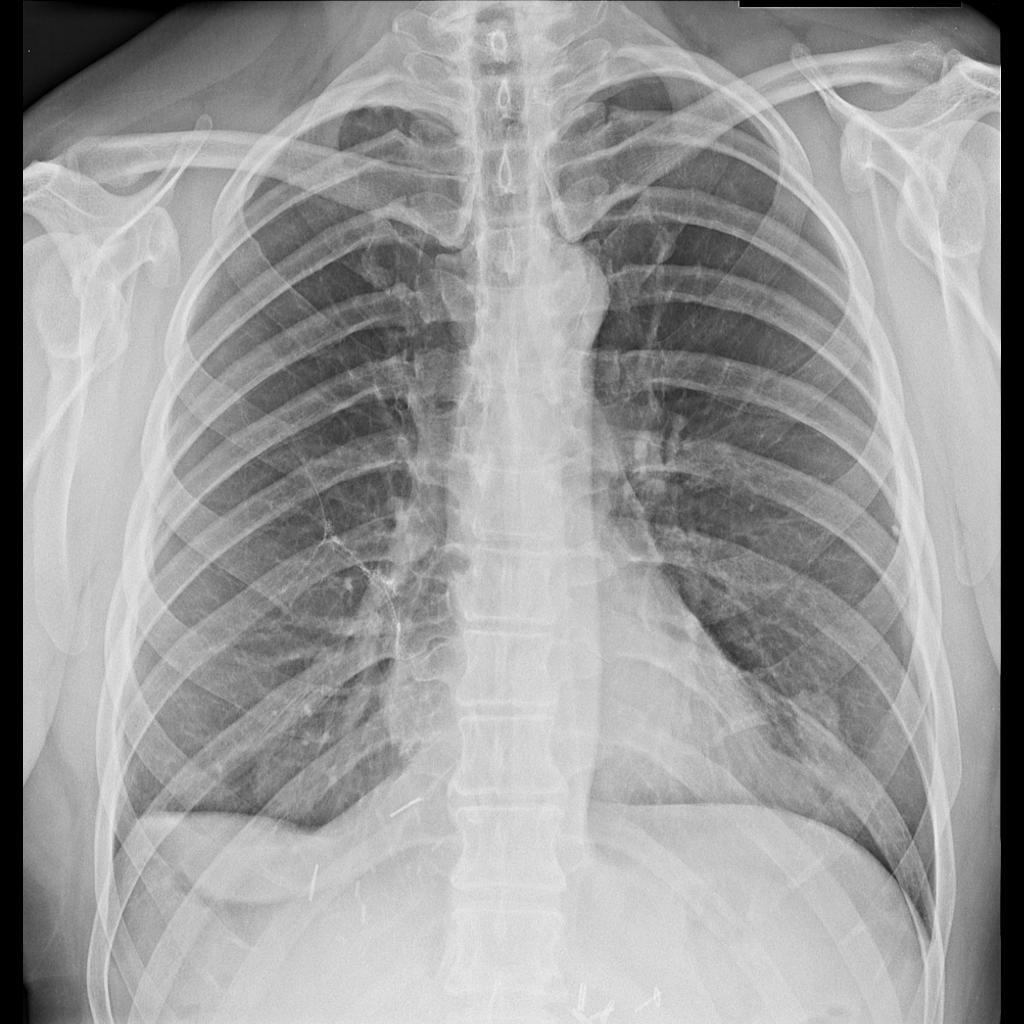Nodule: (790, 689, 846, 748)
